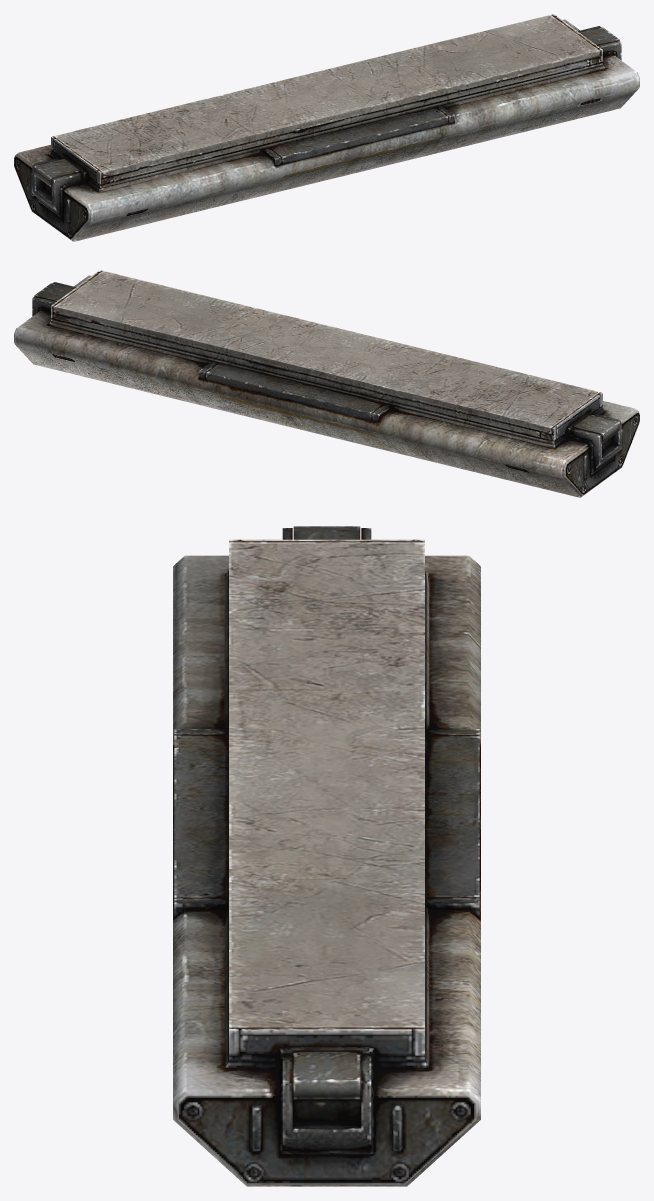
Rendered from tech_ceiling_theta_03.DAE.
3 renders of one model, top to bottom at view 1: azimuth 30°, elevation 25°; view 2: azimuth 150°, elevation 25°; view 3: azimuth 270°, elevation 25°, orthographic. The views are drawn at different scales.
Visible parts, largest first — view 1: tech_ceiling_theta_03; view 2: tech_ceiling_theta_03; view 3: tech_ceiling_theta_03.
Boxes of the visible parts, box(x1,y1,x2,y2) form: tech_ceiling_theta_03: box(14, 14, 639, 241); tech_ceiling_theta_03: box(14, 270, 639, 497); tech_ceiling_theta_03: box(173, 526, 480, 1186).
Size of the model in its own units: 2.5 by 0.2829 by 0.5871.
